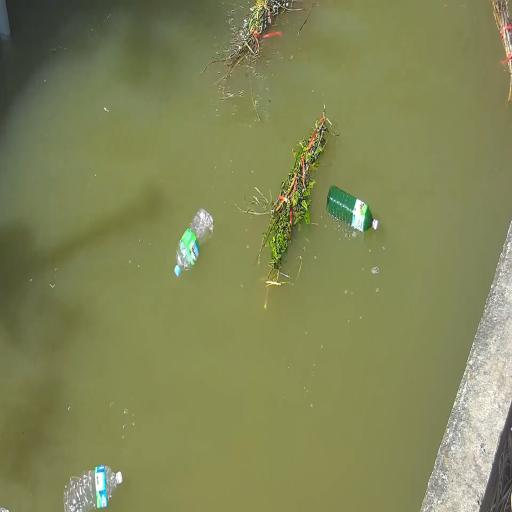plastic: (60, 458, 126, 512), (325, 185, 383, 244), (176, 207, 216, 280)
twig: (247, 113, 328, 284), (212, 0, 300, 94), (481, 0, 512, 104)
